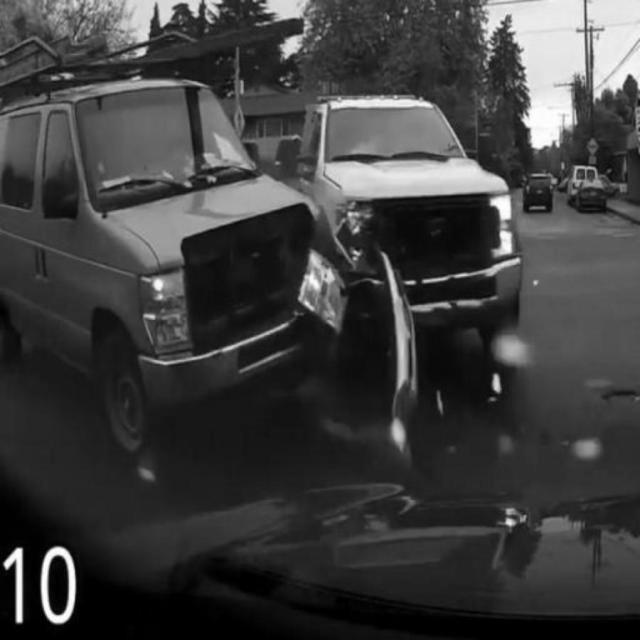accident: (1, 83, 521, 453)
vehicle: (516, 169, 560, 219), (571, 176, 612, 214)
